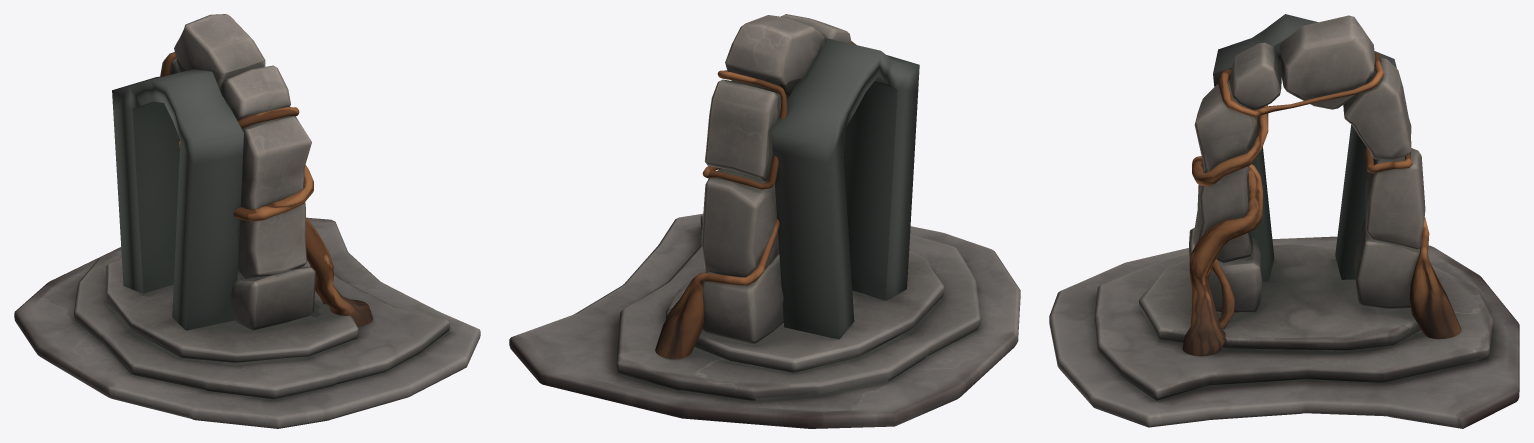
Rendered from simple_stone_portal.glb.
3 views of the same model, side by side, from view 1: azimuth 30°, elevation 25°; view 2: azimuth 150°, elevation 25°; view 3: azimuth 270°, elevation 25° (orthographic). The views are drawn at different scales.
Visible parts, largest first — view 1: prop_portalpiedras_low, prop_portalpuerta_low, prop_portalmadera_low; view 2: prop_portalpiedras_low, prop_portalpuerta_low, prop_portalmadera_low; view 3: prop_portalpiedras_low, prop_portalmadera_low, prop_portalpuerta_low.
Part boxes in pixels (x1,y1,x2,y2): prop_portalpiedras_low: [14, 14, 480, 428]; prop_portalpuerta_low: [112, 69, 243, 330]; prop_portalmadera_low: [161, 52, 372, 326]; prop_portalpiedras_low: [509, 14, 1020, 428]; prop_portalpuerta_low: [771, 38, 919, 339]; prop_portalmadera_low: [655, 41, 856, 359]; prop_portalpiedras_low: [1049, 15, 1519, 428]; prop_portalmadera_low: [1182, 53, 1461, 356]; prop_portalpuerta_low: [1213, 14, 1396, 281].
Size of the model in its own units: 5.46 by 4.38 by 5.95.
3 materials, 3 textured.
